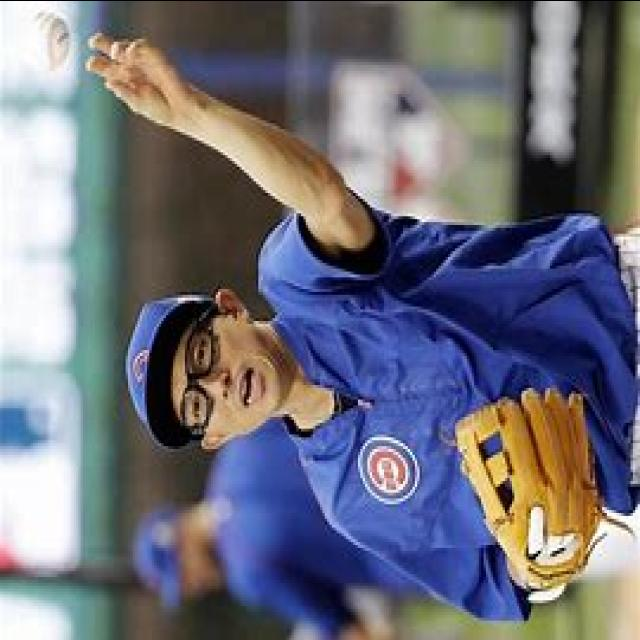ball: (21, 11, 70, 73)
glove: (449, 380, 638, 595)
